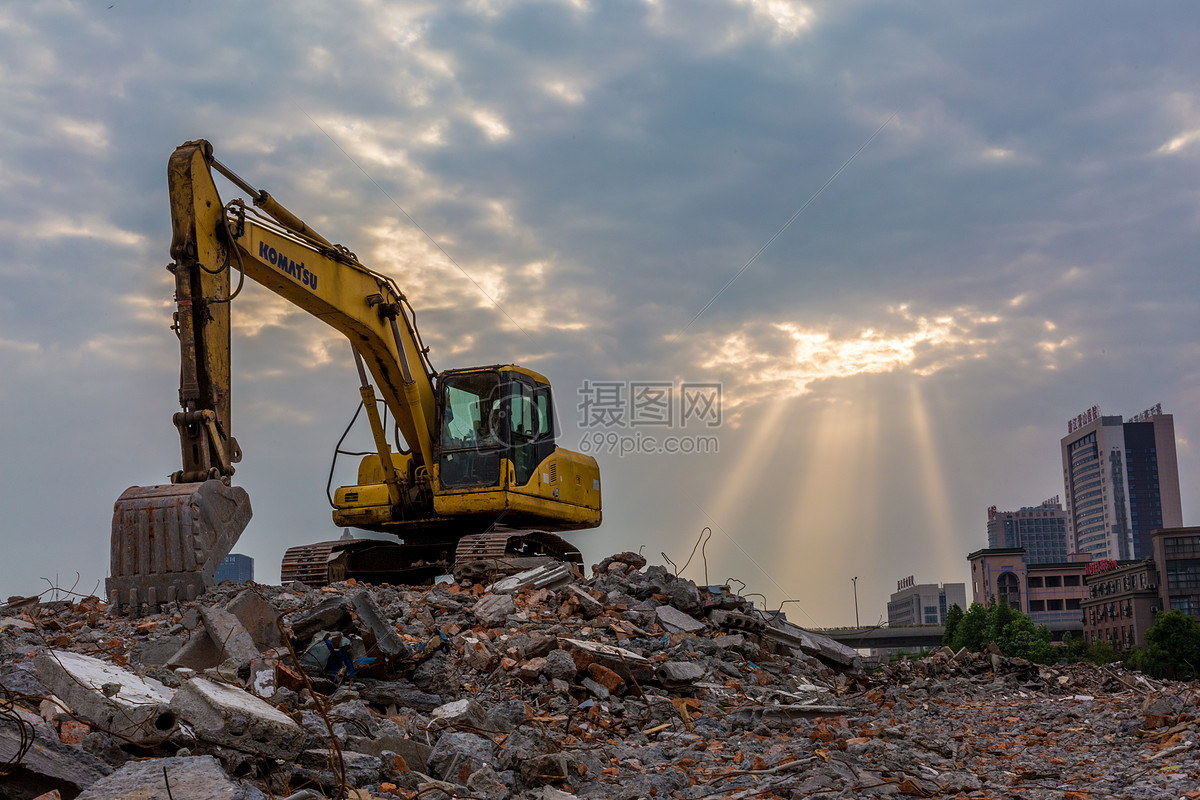excavator: (89, 131, 618, 613)
